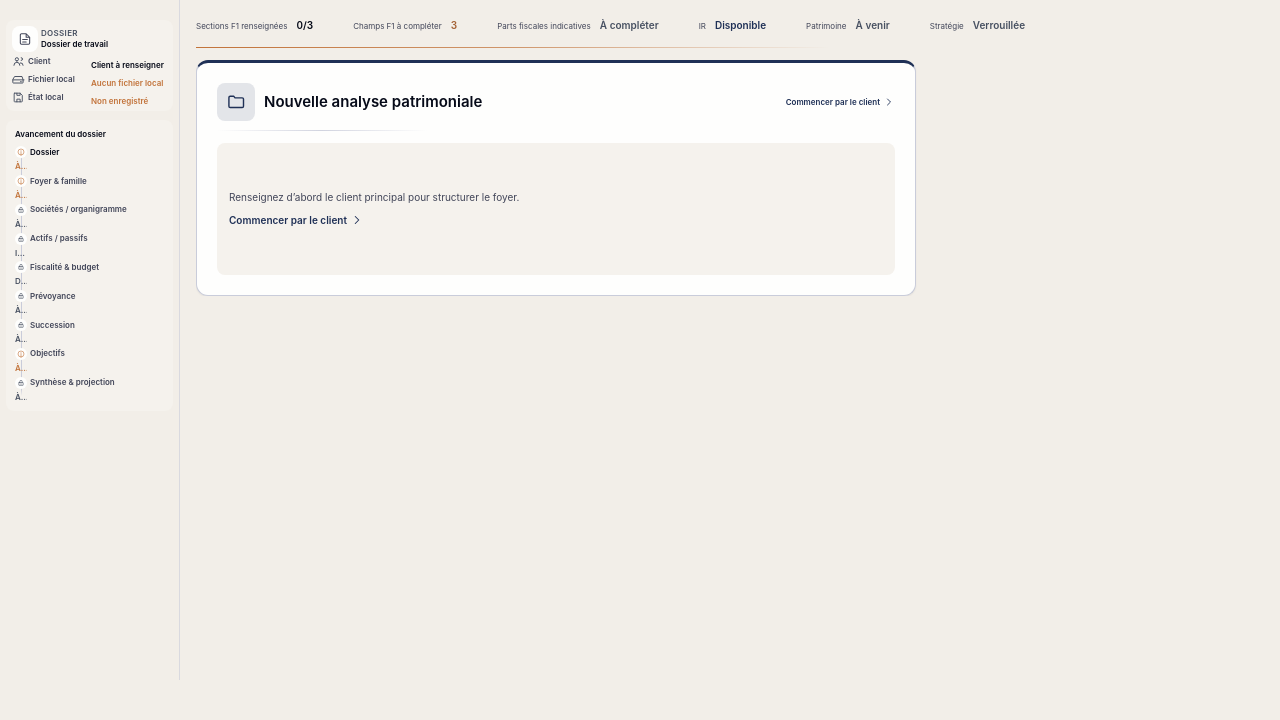
Test: AuditPage › verrouille Synthèse & projection dans le rail tant que la page dédiée n’existe pas
Check: the element named "Synthèse & projection — À venir" is shown, box [15,377,115,402]
Click the button "Foyer & famille À compléter" at {"x": 90, "y": 188}, box [15,175,164,201]
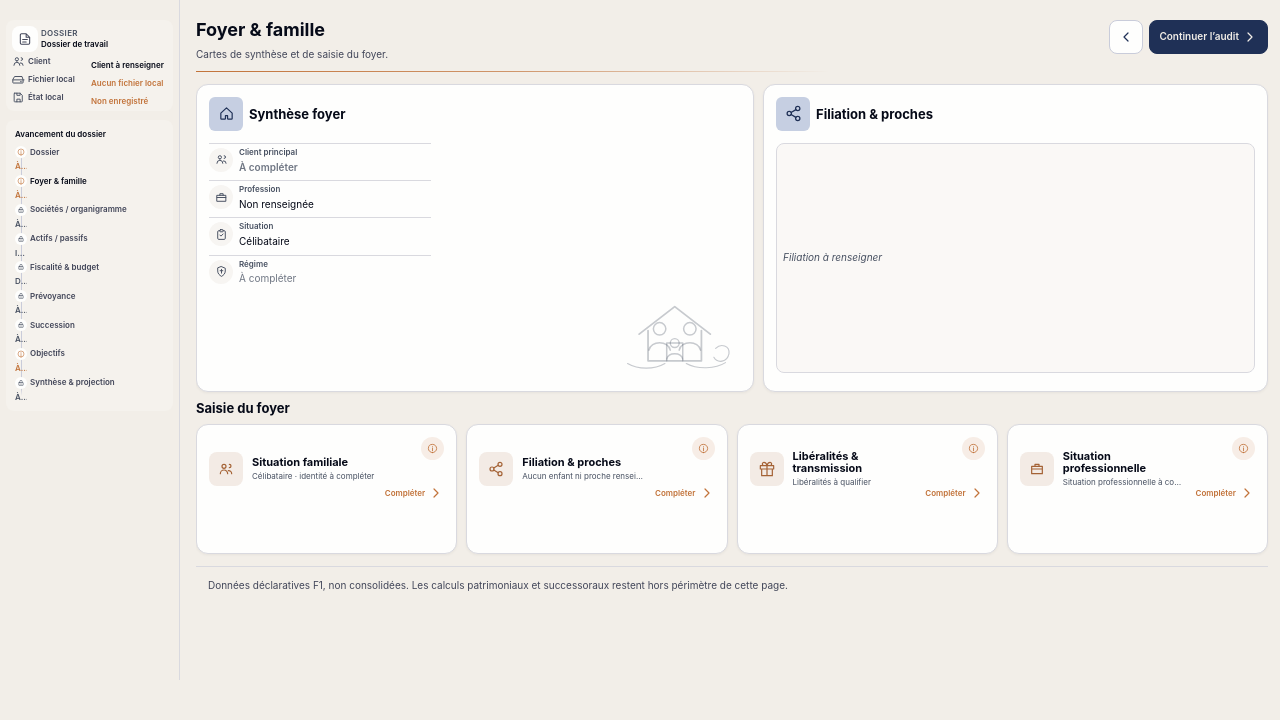
Check: the element named "Synthèse & projection — À venir" is shown, box [15,377,115,402]
Check: the heading "Foyer & famille" is shown, box [196,19,325,40]
